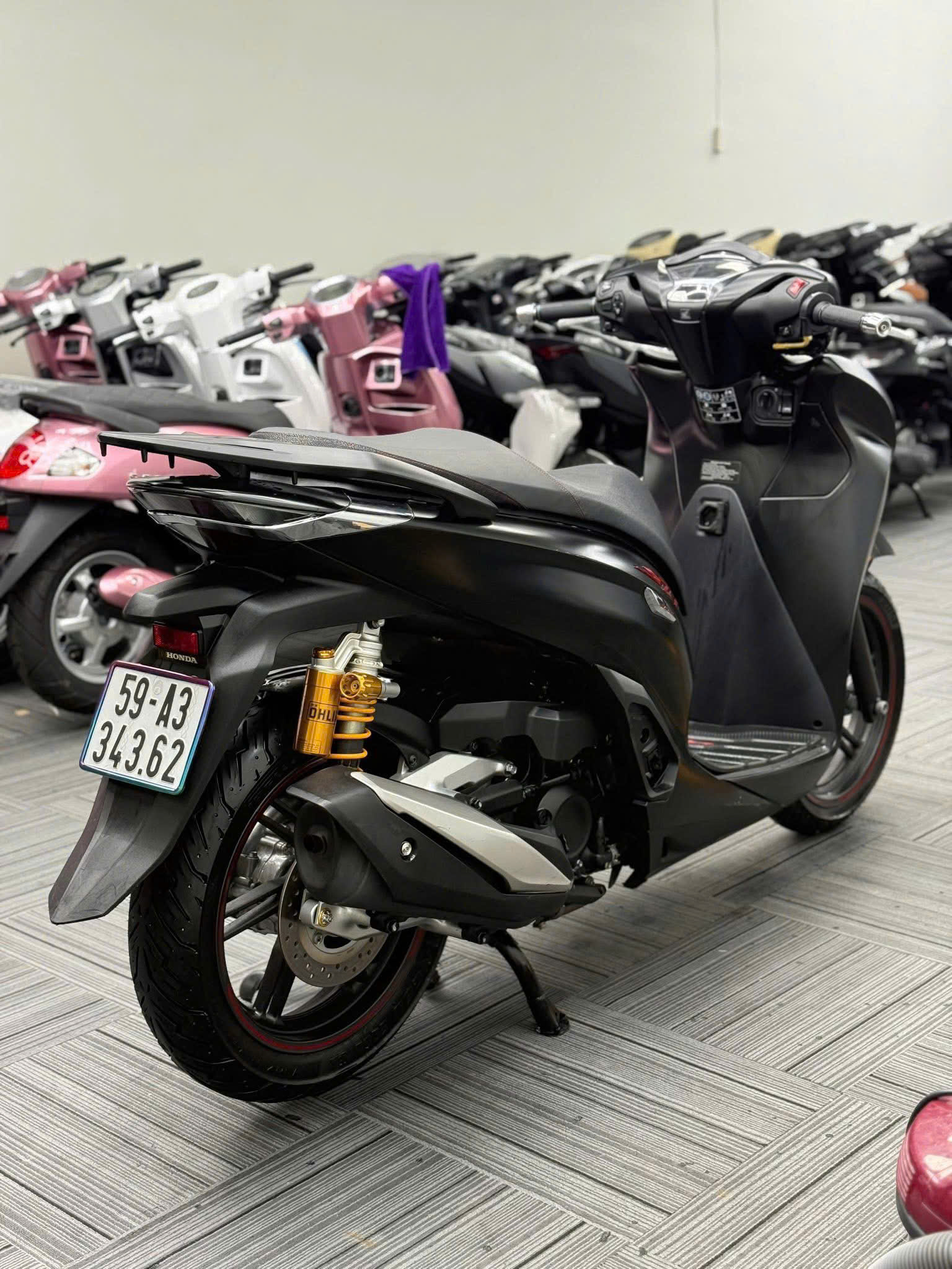Bien-so: (72, 655, 218, 798)
